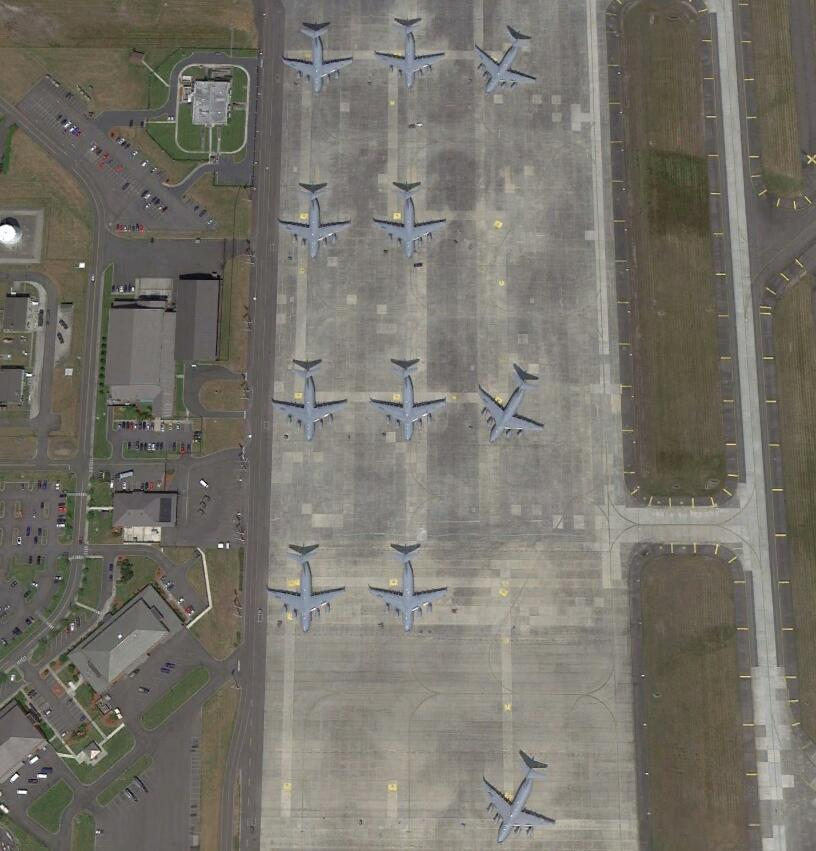A3: (368, 545, 455, 635), (267, 550, 350, 633), (478, 763, 563, 844), (367, 362, 450, 441), (271, 364, 351, 445), (371, 186, 448, 261), (279, 183, 353, 259), (474, 371, 549, 444), (373, 19, 447, 92), (284, 24, 356, 93), (473, 26, 542, 97)
